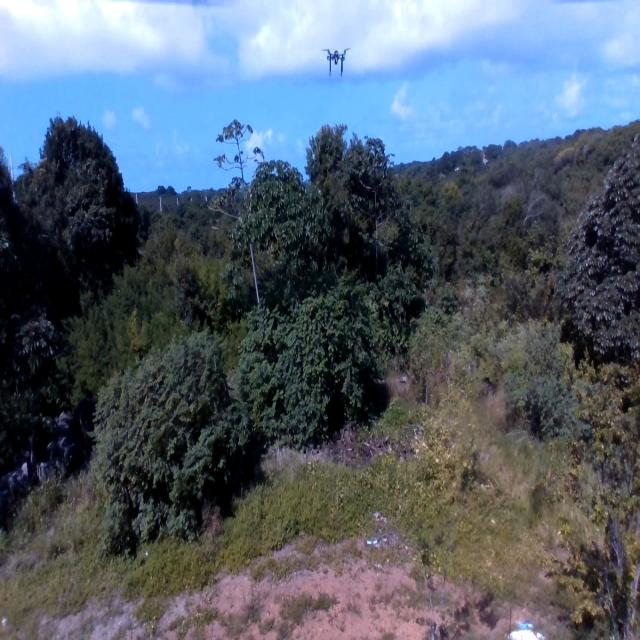-uav-: (324, 39, 348, 77)
